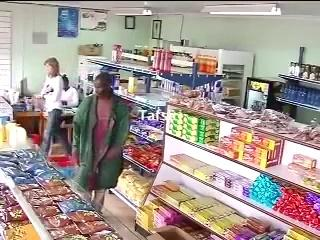Regular: (63, 70, 133, 191), (34, 52, 65, 97)
